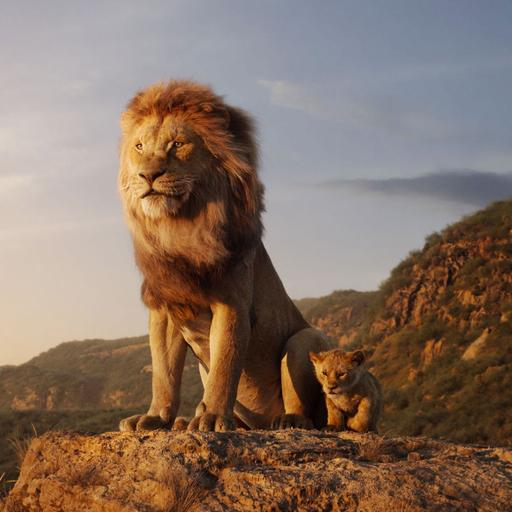Lion: (109, 75, 371, 448), (306, 339, 395, 439)
